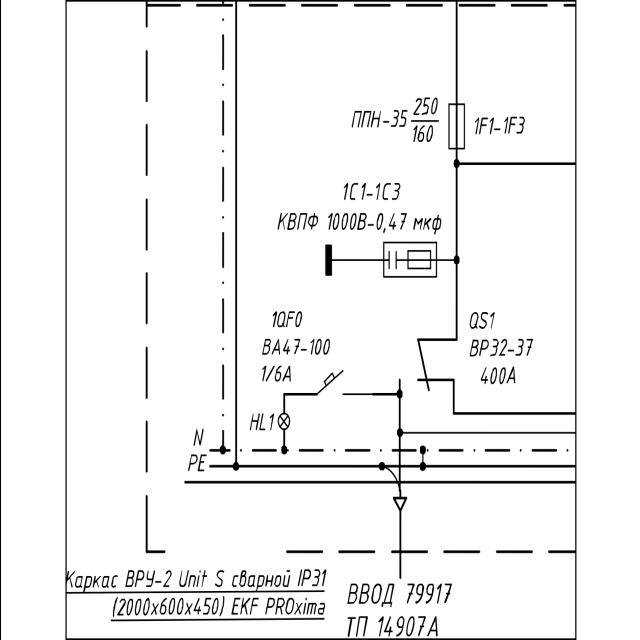-: (65, 566, 328, 618), (348, 94, 440, 150), (466, 336, 534, 394), (254, 335, 332, 384)
FU: (447, 101, 468, 151)
HL: (276, 413, 290, 431)
QF: (316, 368, 346, 398)
switch: (395, 332, 457, 393)
